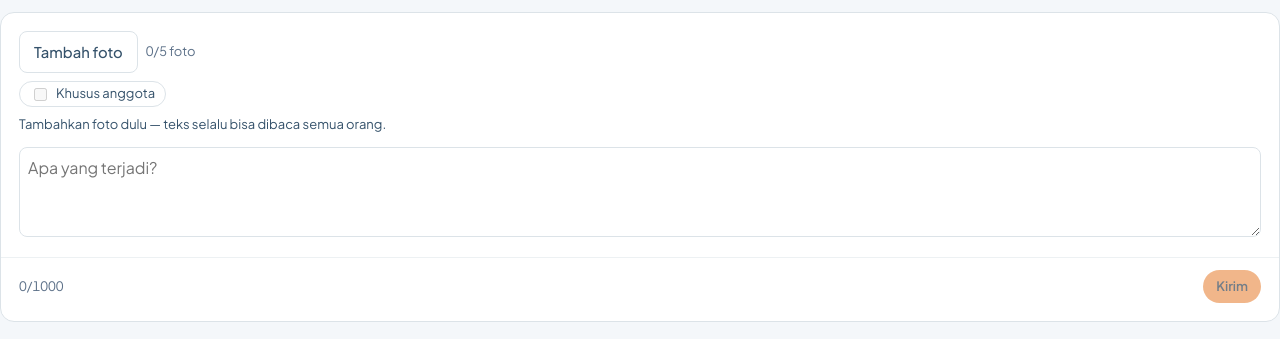
PostComposer — submitting › clears the box on a successful submit
Type "halo" into the text box labelled "Apa yang terjadi?" at x=640, y=192, box top-left (19, 147), bottom-right (1261, 237)
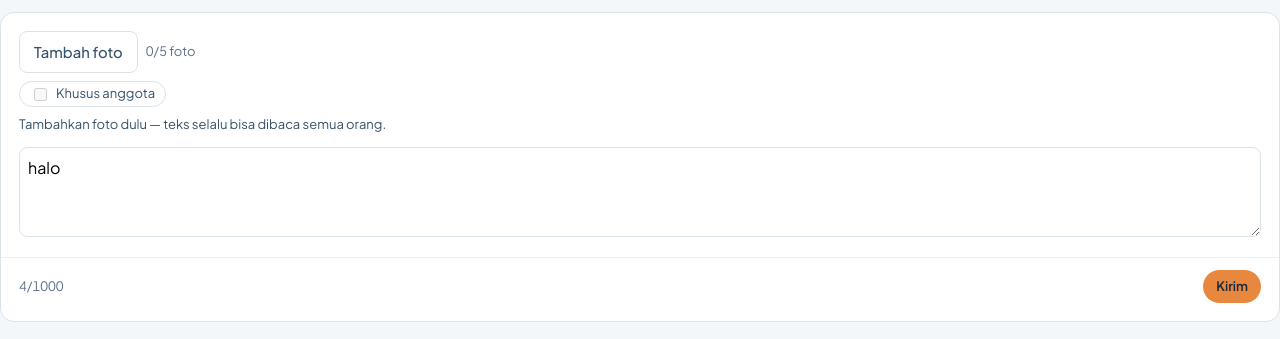
Click the button "Kirim" at x=1232, y=286, box top-left (1203, 270), bottom-right (1261, 303)
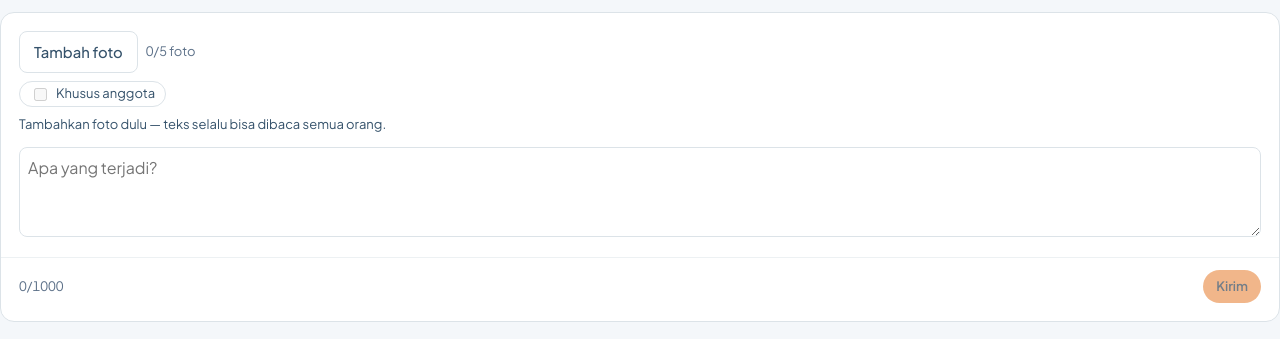
Check: the text box labelled "Apa yang terjadi?" is empty, box top-left (19, 147), bottom-right (1261, 237)
Check: the text "0/1000" is shown, box top-left (19, 277), bottom-right (64, 296)
